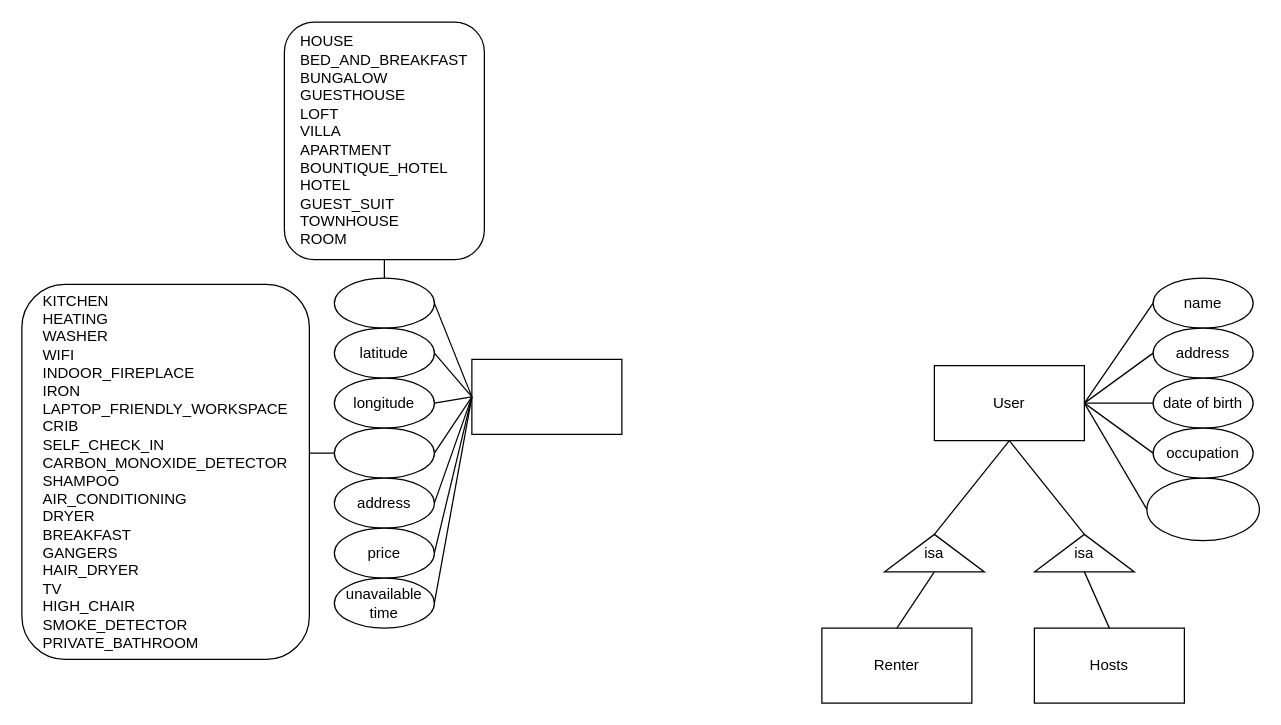
This 1281x725 diagram has some shape labels left out. The shapes that lost their labels are listed below. From the top down, each one's centre as x and y in pixels, then its label:
At (x=383, y=302): "type".
At (x=546, y=396): "Listing".
At (x=383, y=452): "amenities".
At (x=1202, y=509): "social insurance number".
